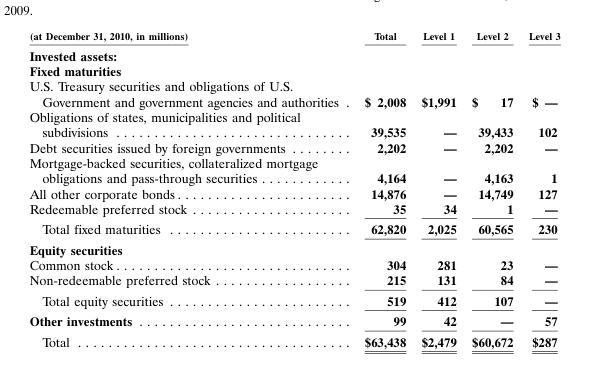table: (28, 29, 559, 348)
table column: (28, 29, 350, 348), (350, 29, 412, 348), (463, 29, 520, 348), (412, 29, 463, 348), (520, 29, 559, 348)
table column header: (28, 29, 559, 44)
table projected row header: (28, 44, 559, 62), (28, 239, 559, 256), (28, 62, 559, 77)
table row: (28, 77, 559, 108), (28, 108, 559, 139), (28, 154, 559, 185), (28, 218, 559, 239), (28, 290, 559, 310), (28, 310, 559, 330), (28, 44, 559, 62), (28, 200, 559, 218), (28, 272, 559, 290), (28, 330, 559, 348), (28, 239, 559, 256), (28, 256, 559, 272), (28, 29, 559, 44), (28, 62, 559, 77), (28, 139, 559, 154), (28, 185, 559, 200)
